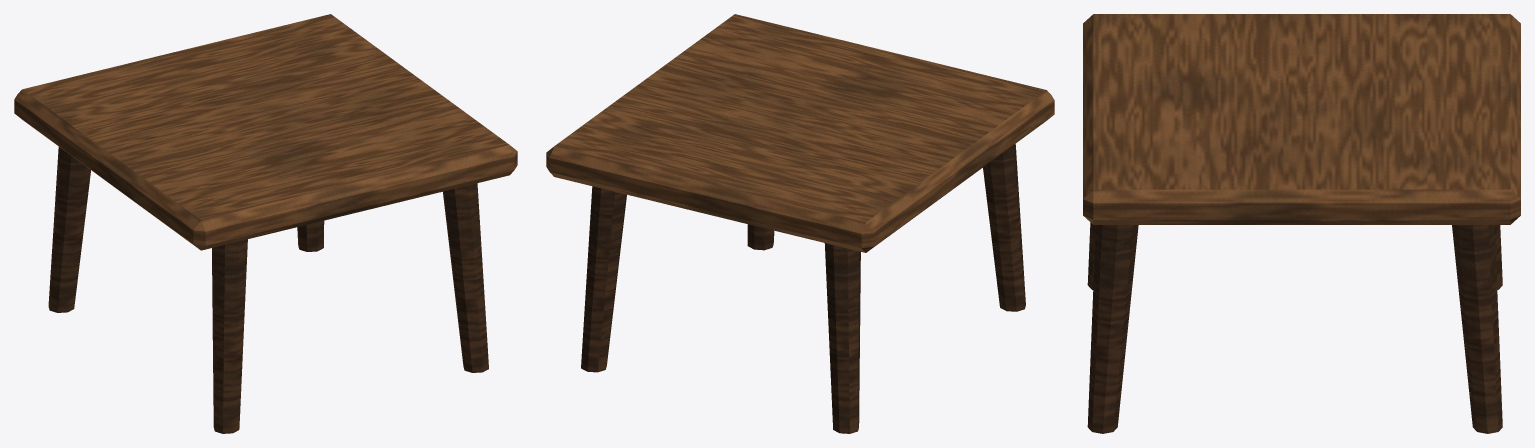
Rendered from Table02.fbx.
3 views of the same model, side by side, from view 1: azimuth 30°, elevation 25°; view 2: azimuth 150°, elevation 25°; view 3: azimuth 270°, elevation 25° (orthographic). The views are drawn at different scales.
Visible parts, largest first — view 1: Table02.001, Table02.002; view 2: Table02.001, Table02.002; view 3: Table02.001, Table02.002.
Boxes of the visible parts, box(x1,y1,x2,y2) form: Table02.001: box(14, 14, 517, 250); Table02.002: box(48, 147, 488, 433); Table02.001: box(546, 14, 1054, 252); Table02.002: box(581, 144, 1025, 433); Table02.001: box(1083, 14, 1520, 224); Table02.002: box(1087, 222, 1502, 433).
Bounding box in the file's own units: 1.25 × 0.8074 × 1.26.
2 materials, 2 textured.
